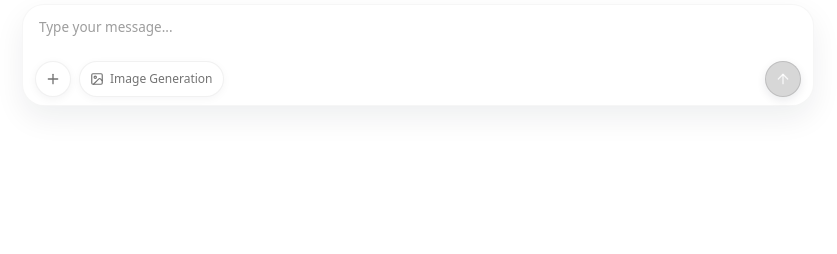
Test: ThreadComposer › completes a CLI app mention with Tab and adds exactly one trailing space
The image size is (837, 254).
Type "use @ble" into the text box named "Message input" at {"x": 418, "y": 30}, box [23,5,813,55]
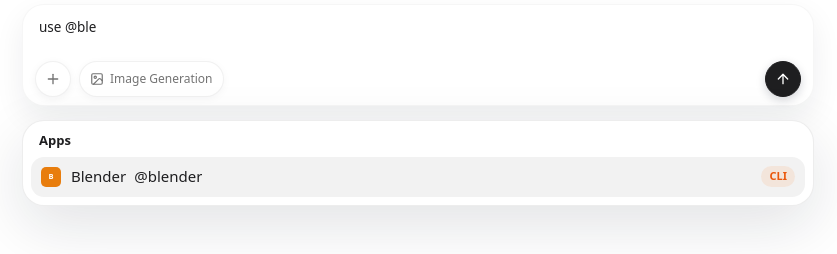
Press Tab in the text box named "Message input", box [23,5,813,55]
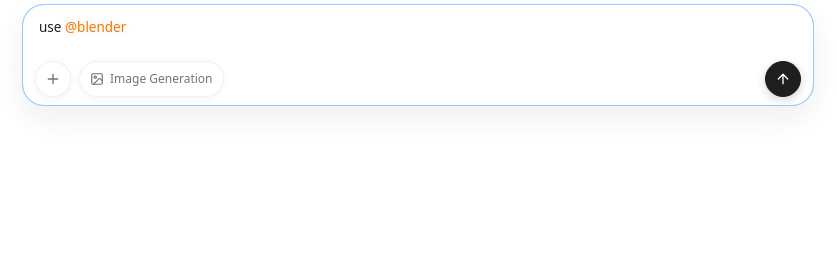
Expected: the text box named "Message input" holds "use @blender ", [23,5,813,55]
Expected: the element with test id "composer-cli-mention-blender" reads "@ blender", [65,18,126,36]
